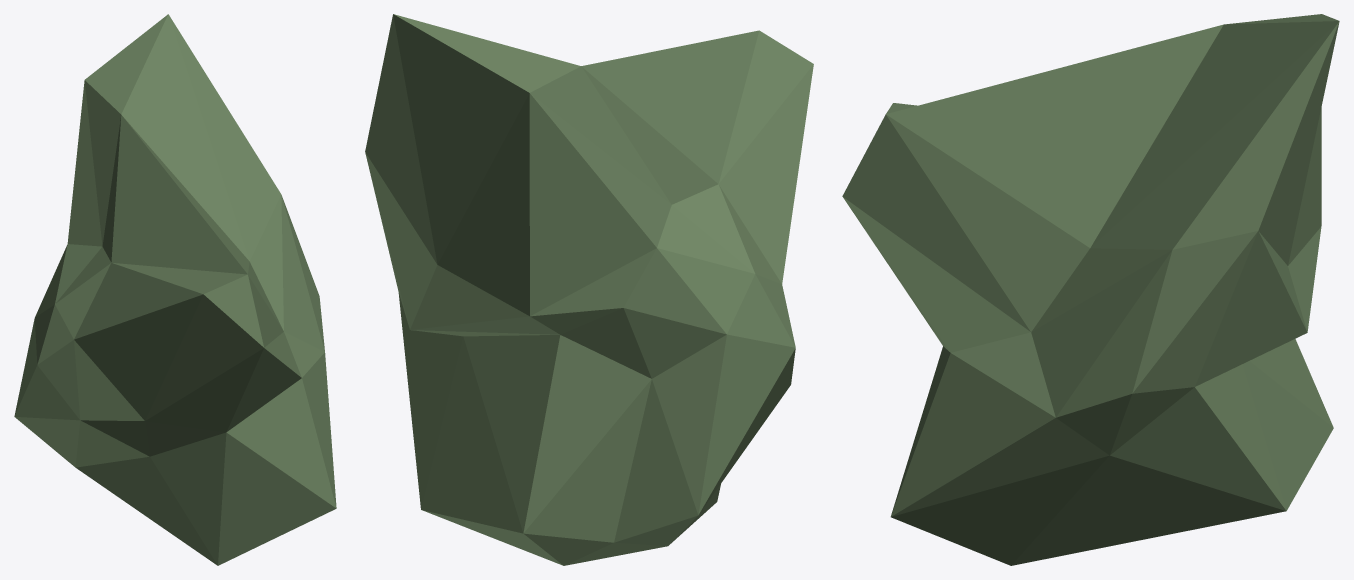
File: ore.glb
3 renders of one model, left to right at view 1: azimuth 30°, elevation 25°; view 2: azimuth 150°, elevation 25°; view 3: azimuth 270°, elevation 25°, orthographic. The views are drawn at different scales.
Parts seen in each view (by area): view 1: Icosphere; view 2: Icosphere; view 3: Icosphere.
Part boxes in pixels (box(x1,y1,x2,y2)): Icosphere: box(14, 14, 336, 565); Icosphere: box(365, 14, 813, 565); Icosphere: box(842, 14, 1339, 565).
Bounding box in the file's own units: 0.3001 × 0.4342 × 0.3429.
